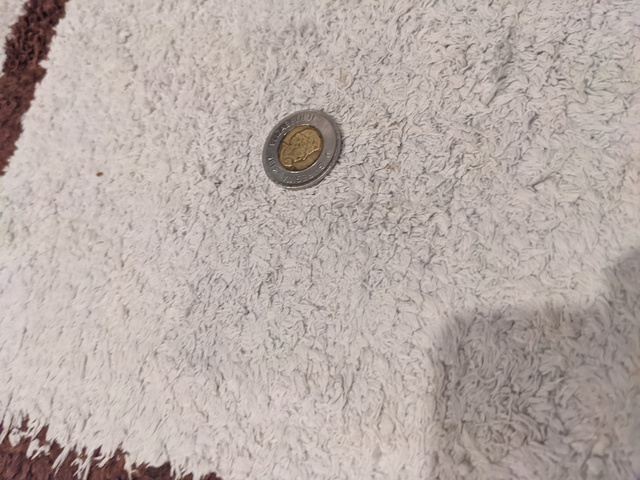twonie: (262, 111, 359, 201)
